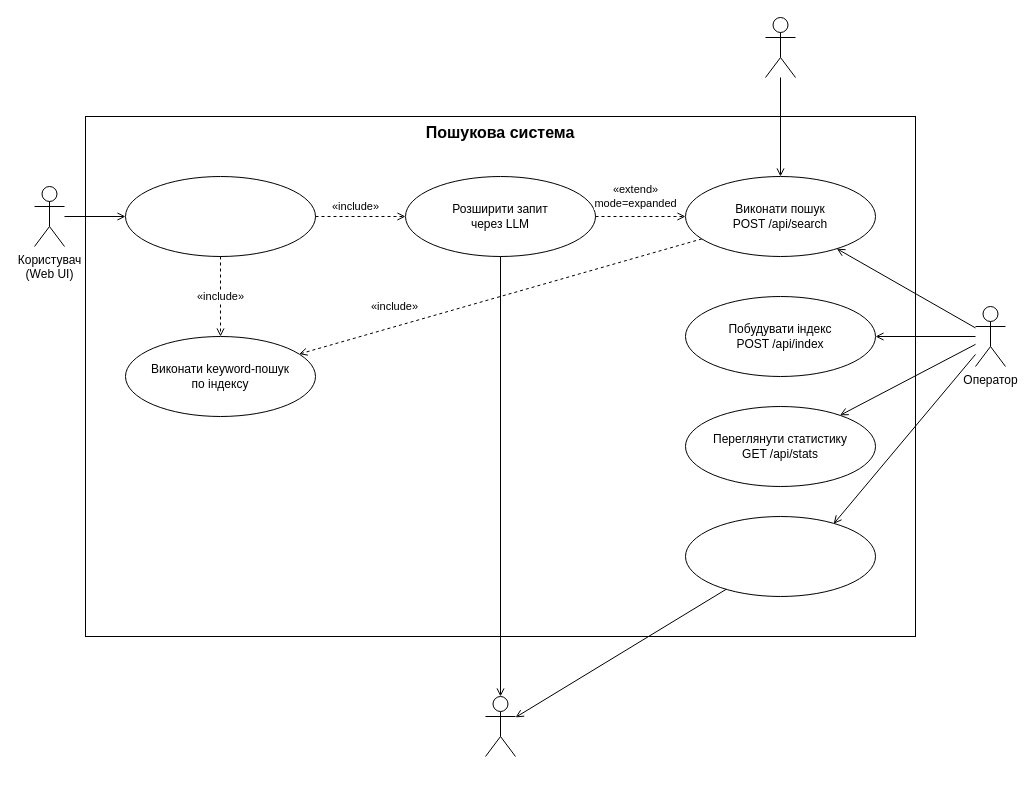
Some shapes in this 1034 by 810 pixel diagram are drawn without their labels. Here are the shapes that lost their labels. From the top down, the centre of each, then its label:
At point (780, 47): "Користувач (CLI)".
At point (220, 216): "Виконати пошук зі стрімінгом WS /ws/search".
At point (780, 556): "Перевірити стан сервера GET /api/health".
At point (500, 726): "Ollama (LLM)".
